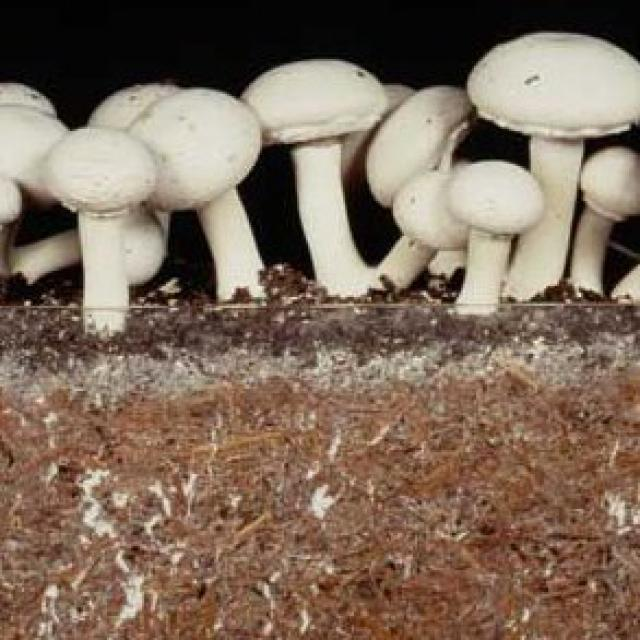Agaricus bisporus: (466, 20, 634, 302), (236, 39, 403, 299), (36, 122, 170, 354), (435, 162, 550, 300)
